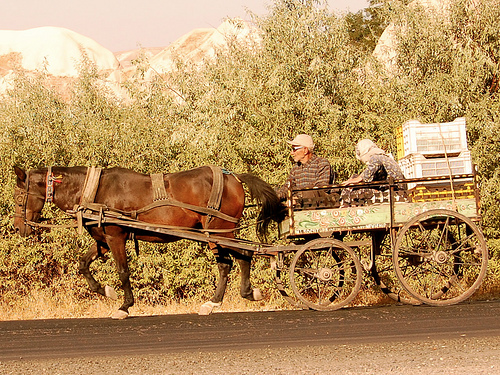horse: (11, 163, 288, 319)
